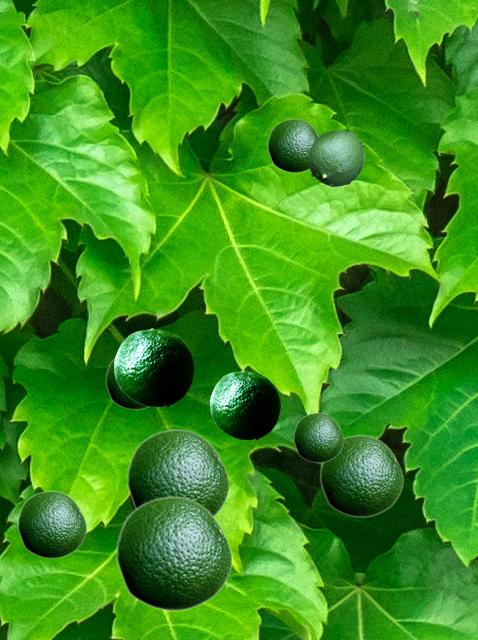calamansi: (115, 495, 232, 611), (126, 428, 229, 516), (319, 434, 403, 517), (114, 328, 193, 405), (210, 370, 279, 438), (17, 490, 86, 558), (308, 130, 363, 185), (267, 118, 319, 172), (293, 412, 343, 462), (105, 358, 151, 409)
